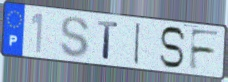1: (31, 12, 44, 54)
F: (187, 28, 222, 73)
I: (132, 21, 142, 66)
S: (59, 15, 91, 59), (157, 25, 188, 70)
T: (96, 19, 120, 62)
